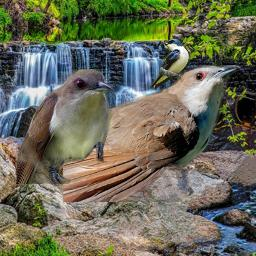Cuckoo: (63, 65, 241, 202), (15, 69, 115, 184)
Swallow: (149, 38, 191, 90)
